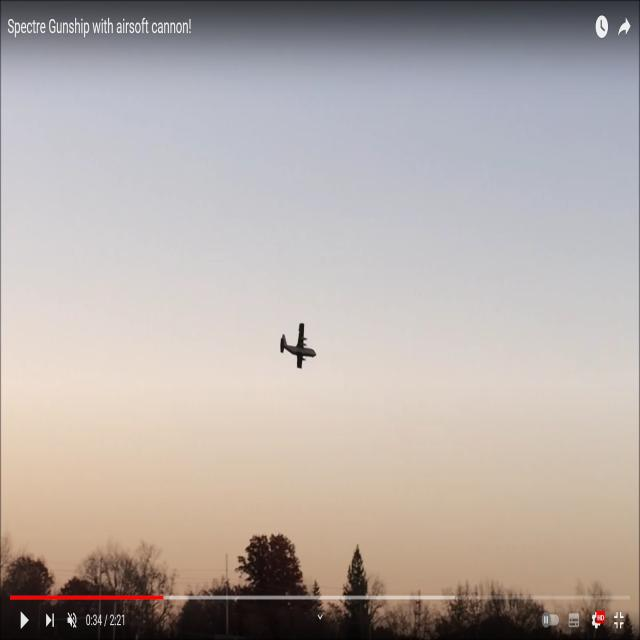iha: (279, 325, 316, 367)
